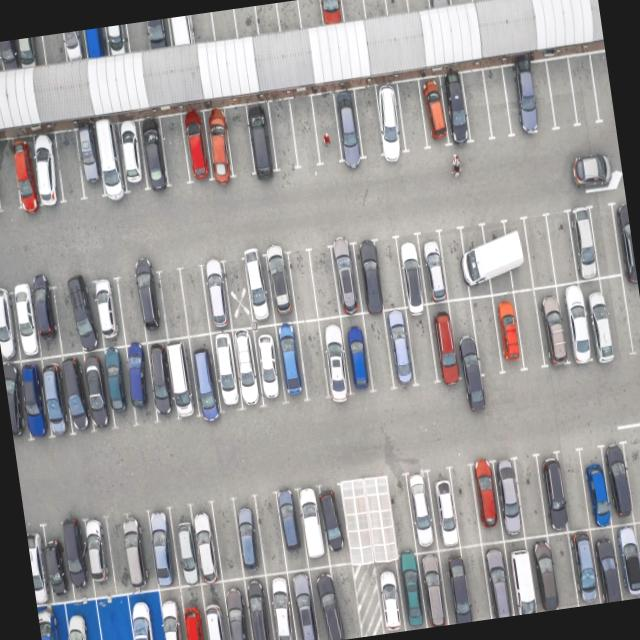car: (558, 281, 598, 364), (187, 333, 226, 418), (165, 338, 204, 421), (535, 286, 573, 368), (447, 296, 482, 383), (503, 536, 542, 614), (252, 325, 289, 407), (208, 331, 245, 413), (146, 506, 182, 590), (576, 280, 612, 364), (80, 516, 118, 595), (272, 321, 309, 402), (338, 312, 375, 393), (186, 506, 223, 587), (402, 470, 438, 553), (228, 328, 264, 411), (124, 342, 160, 424), (468, 460, 504, 542), (492, 457, 528, 539), (584, 277, 620, 359), (232, 497, 268, 578), (15, 358, 50, 441), (506, 61, 544, 137), (120, 512, 156, 592), (428, 467, 463, 549), (36, 356, 71, 438), (317, 313, 351, 396), (481, 540, 517, 618), (372, 80, 408, 158), (428, 304, 462, 386), (60, 354, 94, 436), (102, 343, 136, 425), (94, 122, 130, 199), (146, 340, 180, 421), (479, 220, 516, 294), (178, 110, 214, 186), (490, 292, 526, 368), (260, 570, 299, 640), (167, 506, 201, 586), (81, 350, 114, 432), (113, 119, 149, 194), (296, 487, 330, 566), (277, 489, 310, 570), (199, 260, 235, 334), (262, 250, 298, 324), (374, 560, 410, 634), (332, 86, 367, 162), (566, 530, 601, 606), (383, 308, 417, 386), (239, 572, 278, 640), (60, 519, 94, 597), (414, 548, 448, 626), (438, 546, 472, 624), (198, 108, 234, 181), (30, 133, 66, 206), (590, 526, 624, 603), (308, 563, 342, 640), (93, 278, 129, 350), (244, 250, 278, 326), (582, 452, 616, 528), (42, 522, 74, 602), (417, 76, 452, 149), (316, 490, 349, 567), (219, 575, 258, 640), (351, 242, 386, 314), (460, 224, 495, 296), (138, 118, 172, 192), (526, 538, 560, 612), (500, 218, 534, 292), (537, 456, 569, 534), (244, 102, 278, 175), (288, 567, 322, 640), (7, 287, 40, 362), (29, 281, 62, 356), (568, 208, 602, 280), (73, 277, 106, 351), (396, 236, 430, 307), (441, 75, 474, 148), (75, 127, 108, 200), (394, 556, 426, 631), (10, 136, 42, 211), (604, 447, 635, 524), (121, 587, 166, 640), (330, 245, 364, 315), (416, 234, 450, 304), (136, 271, 169, 341), (610, 521, 640, 598), (59, 595, 110, 640), (197, 581, 234, 640), (27, 530, 54, 610), (175, 582, 211, 640), (3, 361, 28, 441), (156, 586, 193, 640), (614, 201, 636, 276), (0, 287, 20, 361), (37, 602, 69, 640), (13, 36, 42, 68), (104, 24, 132, 57), (144, 18, 172, 51), (84, 27, 112, 60), (62, 30, 88, 62), (166, 16, 193, 46), (317, 0, 345, 27), (28, 36, 48, 68), (0, 40, 20, 71), (427, 0, 454, 8)
free: (211, 500, 249, 582), (468, 294, 504, 378), (255, 494, 291, 578), (293, 319, 330, 400), (600, 275, 637, 356), (326, 562, 363, 639), (404, 306, 440, 385), (360, 310, 396, 389), (456, 544, 493, 620), (511, 290, 546, 370), (514, 458, 549, 538), (384, 478, 418, 560), (223, 104, 260, 178), (458, 68, 494, 142), (393, 80, 429, 154), (158, 114, 194, 188), (309, 92, 345, 165), (448, 464, 480, 546), (588, 203, 622, 280), (559, 454, 591, 534), (306, 248, 341, 320), (546, 56, 580, 130), (568, 54, 602, 128), (350, 87, 384, 161), (220, 258, 253, 334), (370, 239, 404, 312), (289, 95, 323, 168), (54, 130, 88, 203), (522, 218, 556, 290), (284, 252, 318, 324), (266, 99, 300, 171), (545, 213, 579, 284), (158, 269, 192, 340), (548, 533, 580, 608), (177, 267, 211, 337), (482, 66, 514, 140), (52, 281, 84, 354), (116, 276, 150, 344), (438, 230, 471, 300), (93, 591, 140, 640), (104, 517, 134, 593), (342, 487, 371, 565), (529, 60, 557, 135), (0, 139, 24, 214), (590, 53, 615, 124), (622, 442, 640, 522), (622, 275, 640, 352), (232, 6, 260, 40), (274, 0, 302, 34), (210, 9, 238, 42), (125, 21, 152, 54), (254, 3, 281, 36), (43, 33, 69, 66), (190, 12, 216, 44), (297, 0, 325, 29), (339, 0, 367, 24), (361, 0, 389, 19), (383, 0, 410, 15), (404, 0, 432, 12), (0, 42, 5, 74), (446, 0, 472, 6)
